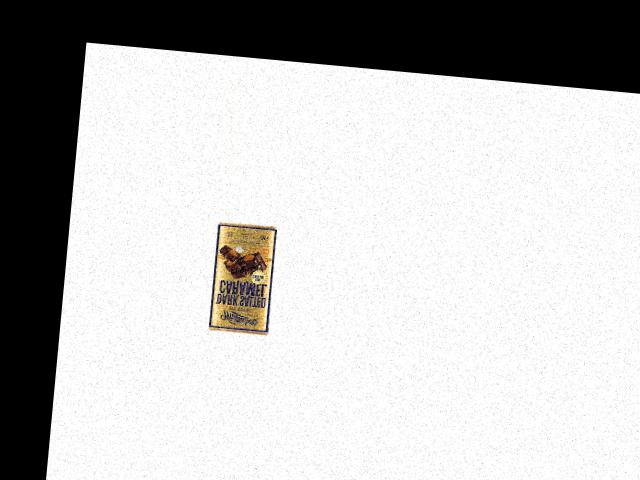chocolate: (206, 219, 282, 334)
